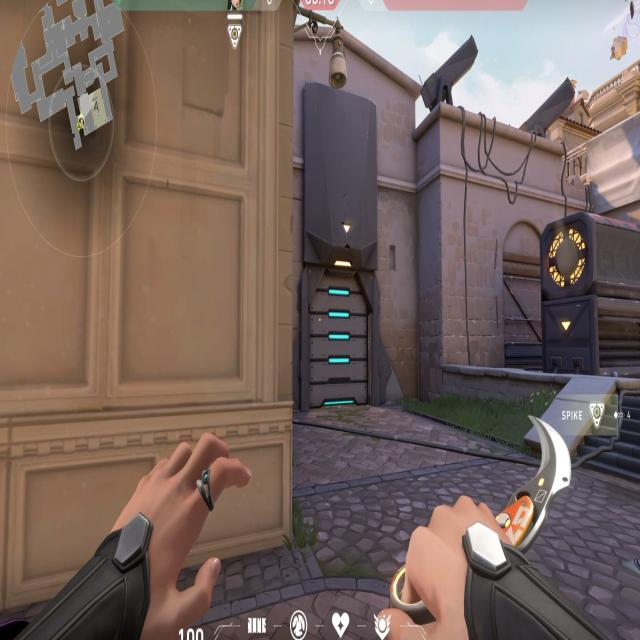A_Door: (302, 266, 372, 403)
